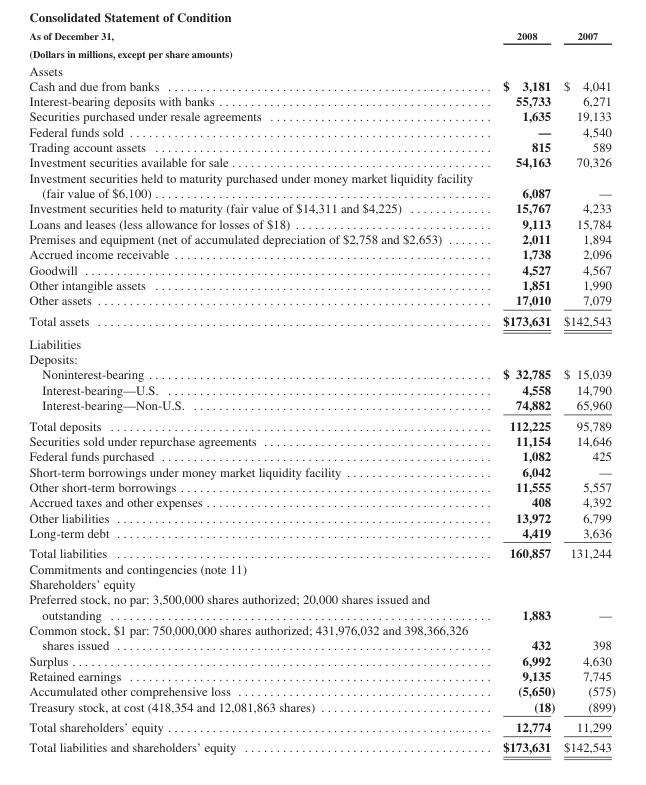table: (28, 29, 615, 754)
table column: (28, 29, 487, 754), (487, 29, 558, 754), (558, 29, 615, 754)
table column header: (28, 29, 615, 44)
table projected row header: (28, 331, 615, 351), (28, 60, 615, 77), (28, 44, 615, 60), (28, 575, 615, 591), (28, 351, 615, 366), (28, 560, 615, 575)
table row: (28, 169, 615, 200), (28, 621, 615, 652), (28, 591, 615, 621), (28, 310, 615, 331), (28, 331, 615, 351), (28, 716, 615, 736), (28, 292, 615, 310), (28, 396, 615, 414), (28, 414, 615, 432), (28, 524, 615, 542), (28, 542, 615, 560), (28, 698, 615, 716), (28, 736, 615, 754), (28, 60, 615, 77), (28, 44, 615, 60), (28, 92, 615, 108), (28, 138, 615, 154), (28, 230, 615, 246), (28, 276, 615, 292), (28, 447, 615, 463), (28, 493, 615, 509), (28, 575, 615, 591), (28, 682, 615, 698), (28, 29, 615, 44), (28, 77, 615, 92), (28, 108, 615, 123), (28, 123, 615, 138), (28, 154, 615, 169), (28, 200, 615, 215), (28, 215, 615, 230), (28, 246, 615, 261), (28, 261, 615, 276), (28, 351, 615, 366), (28, 366, 615, 381), (28, 381, 615, 396), (28, 432, 615, 447), (28, 463, 615, 478), (28, 478, 615, 493), (28, 509, 615, 524), (28, 560, 615, 575), (28, 652, 615, 667), (28, 667, 615, 682)
